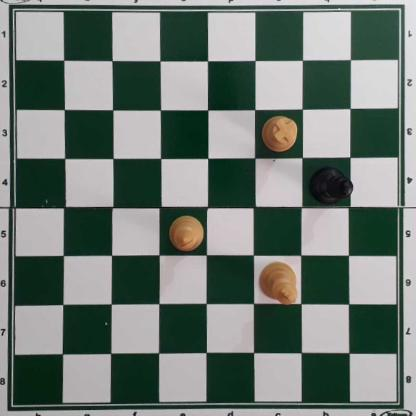black-king: (306, 168, 354, 204)
white-bishop: (171, 216, 204, 252)
white-king: (262, 262, 296, 308)
white-rook: (262, 117, 299, 153)
